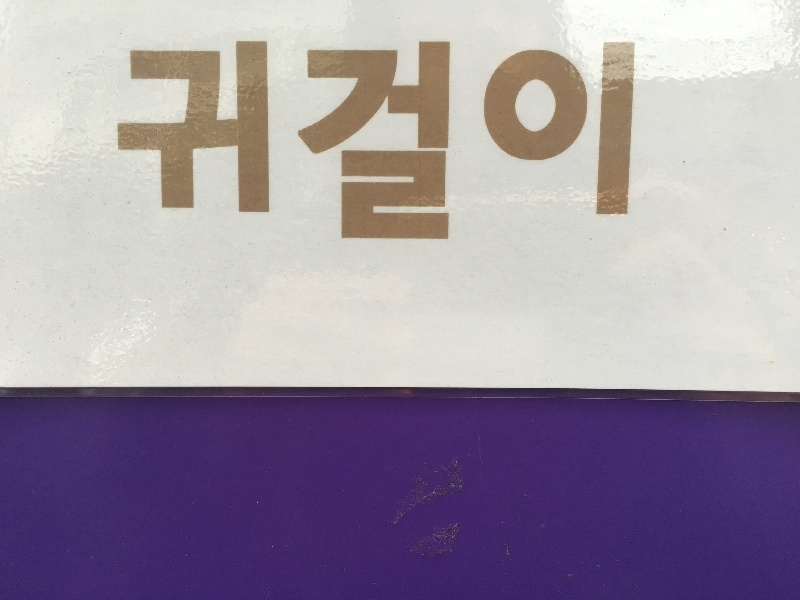text: (129, 39, 144, 244), (145, 39, 160, 244), (161, 39, 176, 244), (177, 39, 192, 244), (193, 39, 208, 244), (209, 39, 224, 244), (225, 39, 240, 244), (241, 39, 256, 244), (257, 39, 272, 244), (273, 39, 288, 244), (289, 39, 304, 244), (305, 39, 320, 244), (321, 39, 336, 244), (337, 39, 352, 244), (353, 39, 368, 244), (369, 39, 384, 244), (385, 39, 400, 244), (401, 39, 416, 244), (417, 39, 432, 244), (433, 39, 448, 244), (449, 39, 464, 244), (465, 39, 480, 244), (481, 39, 496, 244), (497, 39, 512, 244), (513, 39, 528, 244), (529, 39, 544, 244), (545, 39, 560, 244), (561, 39, 576, 244), (577, 39, 592, 244), (593, 39, 608, 244), (609, 39, 624, 244), (625, 39, 638, 244), (118, 39, 128, 244)
